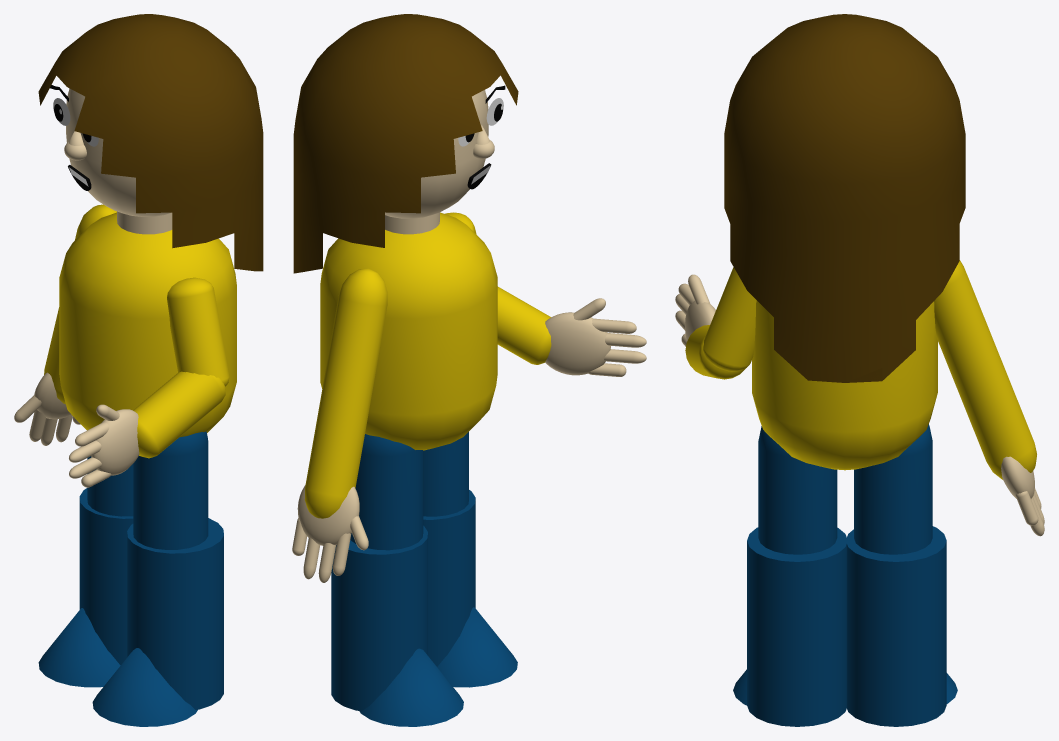
Rendered from Girl_In_Yellow.gltf.
3 views of the same model, side by side, from view 1: azimuth 30°, elevation 25°; view 2: azimuth 150°, elevation 25°; view 3: azimuth 270°, elevation 25° (orthographic). The views are drawn at different scales.
Parts seen in each view (by area): view 1: pCylinder34, pCylinder12, pCylinder18, pCylinder14, pCylinder17, pCone4, pCylinder15, pCylinder35, pCone5, pCylinder5, pSphere1, pCylinder13 (+6 smaller); view 2: pCylinder34, pCylinder12, pCylinder17, pCylinder16, pCylinder13, pCylinder18, pCone5, pCone4, pCylinder14, pSphere1, pCylinder5, pCylinder35 (+2 smaller); view 3: pCylinder34, pCylinder17, pCylinder18, pCylinder12, pCylinder16, pCylinder14, pCylinder13, pCylinder15, pCylinder35, pSphere4, pSphere1.
Boxes of the visible parts, bbox=[...] form: pCylinder34: bbox=[38, 14, 263, 271]; pCylinder12: bbox=[59, 212, 236, 437]; pCylinder18: bbox=[127, 518, 223, 709]; pCylinder14: bbox=[133, 431, 208, 549]; pCylinder17: bbox=[79, 488, 133, 665]; pCone4: bbox=[92, 648, 197, 726]; pCylinder15: bbox=[167, 277, 229, 386]; pCylinder35: bbox=[133, 371, 225, 458]; pCone5: bbox=[38, 608, 120, 687]; pCylinder5: bbox=[66, 88, 170, 216]; pSphere1: bbox=[91, 409, 139, 475]; pCylinder13: bbox=[87, 456, 133, 516]; pCylinder34: bbox=[293, 14, 518, 273]; pCylinder12: bbox=[320, 212, 497, 450]; pCylinder17: bbox=[331, 525, 427, 711]; pCylinder16: bbox=[304, 268, 387, 518]; pCylinder13: bbox=[350, 434, 423, 550]; pCylinder18: bbox=[423, 490, 475, 666]; pCone5: bbox=[359, 648, 463, 726]; pCone4: bbox=[437, 607, 517, 687]; pCylinder14: bbox=[423, 432, 468, 516]; pSphere1: bbox=[545, 312, 610, 375]; pCylinder5: bbox=[385, 90, 488, 218]; pCylinder35: bbox=[497, 286, 551, 364]; pCylinder34: bbox=[724, 14, 965, 382]; pCylinder17: bbox=[846, 526, 946, 726]; pCylinder18: bbox=[747, 527, 846, 726]; pCylinder12: bbox=[752, 300, 937, 470]; pCylinder16: bbox=[934, 260, 1036, 479]; pCylinder14: bbox=[758, 426, 837, 554]; pCylinder13: bbox=[854, 424, 932, 554]; pCylinder15: bbox=[703, 267, 756, 371]; pCylinder35: bbox=[685, 325, 744, 379]; pSphere4: bbox=[1001, 456, 1034, 498]; pSphere1: bbox=[685, 300, 715, 341].
Bounding box in the file's own units: 0.055 × 0.1328 × 0.0653.
